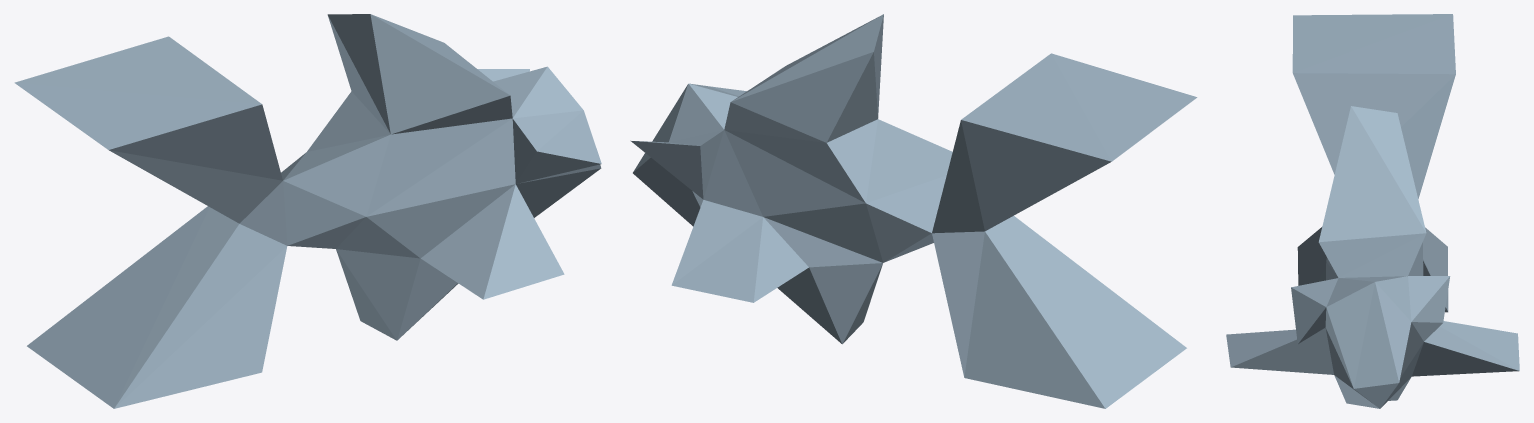
3 views of the same model, side by side, from view 1: azimuth 30°, elevation 25°; view 2: azimuth 150°, elevation 25°; view 3: azimuth 270°, elevation 25° (orthographic). The views are drawn at different scales.
Visible parts, largest first — view 1: part0; view 2: part0; view 3: part0.
Boxes of the visible parts, box(x1,y1,x2,y2) form: part0: box(14, 14, 601, 408); part0: box(630, 14, 1197, 408); part0: box(1226, 14, 1519, 408).
Size of the model in its own units: 4.63 by 2.74 by 2.54.
